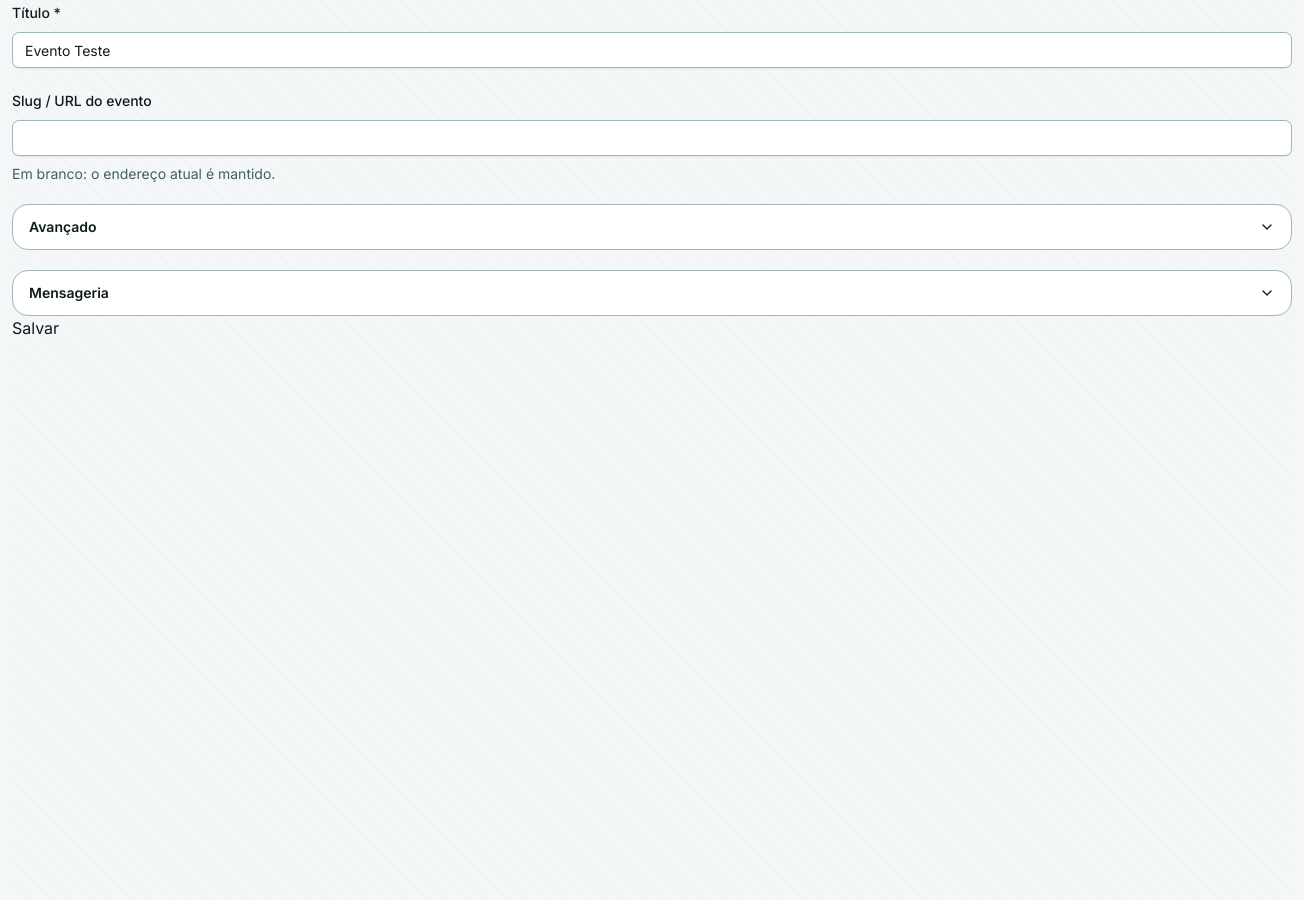
EventFormFields — seções recolhíveis › Mensageria abre com link do grupo, instância e o card de recorrência
This screenshot has width=1304, height=900.
What coordinates should you click on to do the following:
click the button "Mensageria"
I would click on:
 (69, 292)
Its box is [13,271,1291,315].
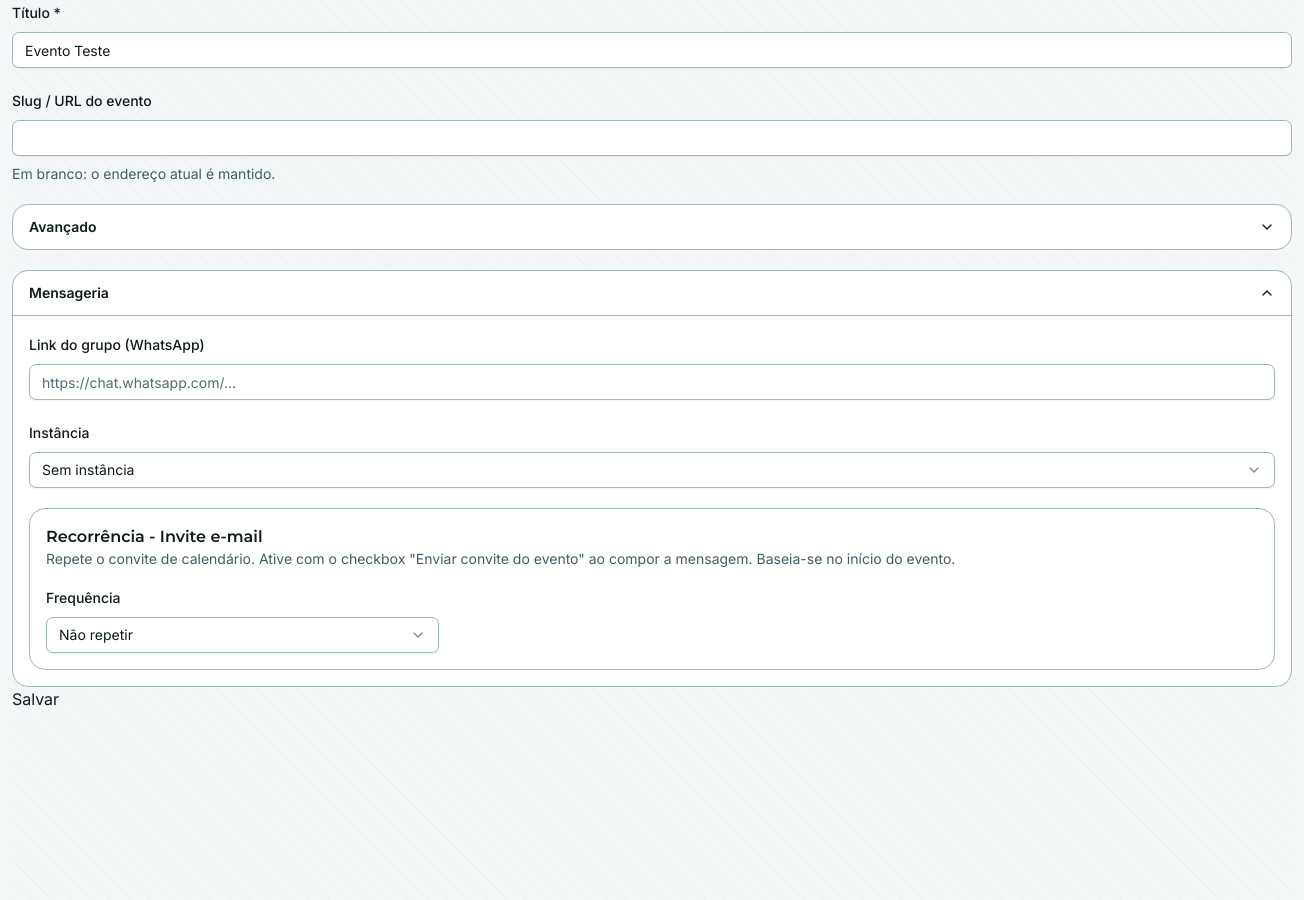
Result: the field labelled "Link do grupo (WhatsApp)" is shown at [29,364,1275,400]
Result: the dropdown labelled "instância" is shown at [29,452,1275,488]
Result: the heading "Recorrência - Invite e-mail" is shown at [46,527,262,546]
